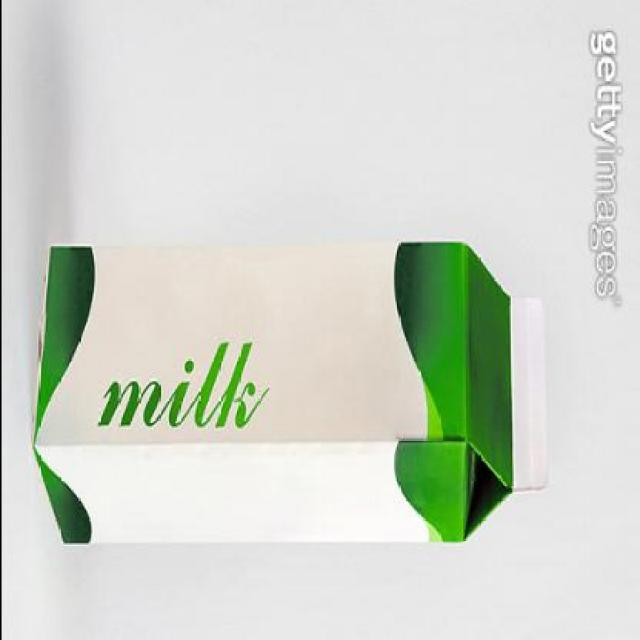non_white_jug: (20, 223, 552, 559)
